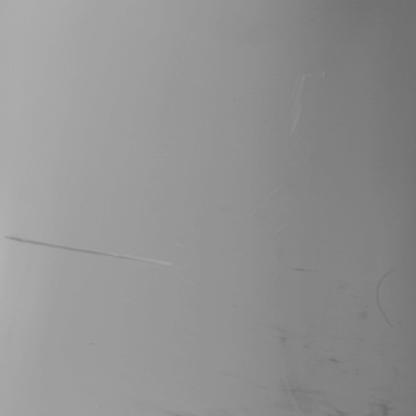sunshang: (4, 234, 170, 264), (375, 266, 402, 325)
